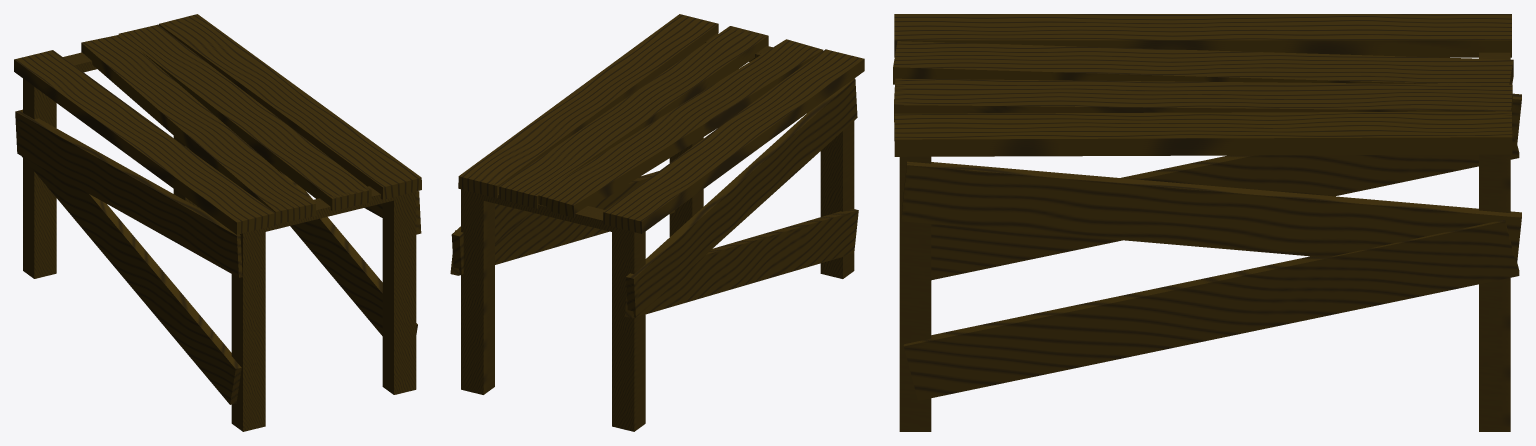
Rendered from mesa.fbx.
The picture shows the model from 3 angles, left to right: view 1: azimuth 30°, elevation 25°; view 2: azimuth 150°, elevation 25°; view 3: azimuth 270°, elevation 25°; orthographic projection. The views are drawn at different scales.
Parts seen in each view (by area): view 1: mesa; view 2: mesa; view 3: mesa.
Part boxes in pixels (x1,y1,x2,y2): mesa: (14, 14, 421, 431); mesa: (450, 14, 864, 431); mesa: (893, 14, 1521, 431).
Bounding box in the file's own units: 1.12 × 1.2 × 2.32.
